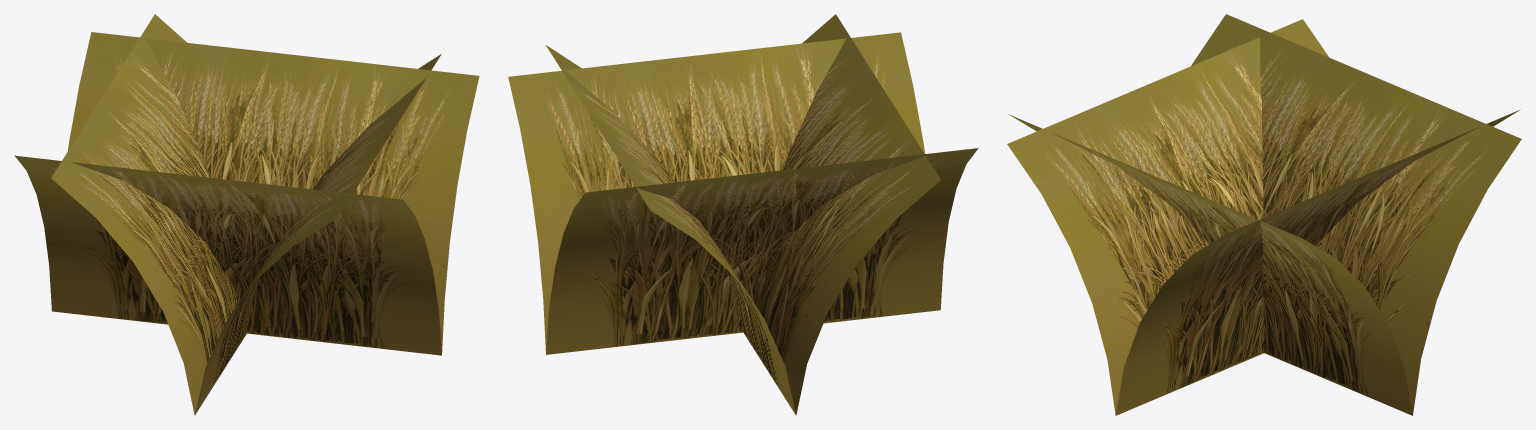
Rendered from sb_obj_nature008_Wheat02.fbx.
3 views of the same model, side by side, from view 1: azimuth 30°, elevation 25°; view 2: azimuth 150°, elevation 25°; view 3: azimuth 270°, elevation 25° (orthographic). The views are drawn at different scales.
Visible parts, largest first — view 1: sb_obj_nature008_Wheat02; view 2: sb_obj_nature008_Wheat02; view 3: sb_obj_nature008_Wheat02.
Part boxes in pixels (x1=…): sb_obj_nature008_Wheat02: x1=15, y1=14, x2=479, y2=415; sb_obj_nature008_Wheat02: x1=508, y1=14, x2=978, y2=415; sb_obj_nature008_Wheat02: x1=1007, y1=14, x2=1521, y2=415.
Bounding box in the file's own units: 2.46 × 1.21 × 2.46.
1 material, 1 textured.
